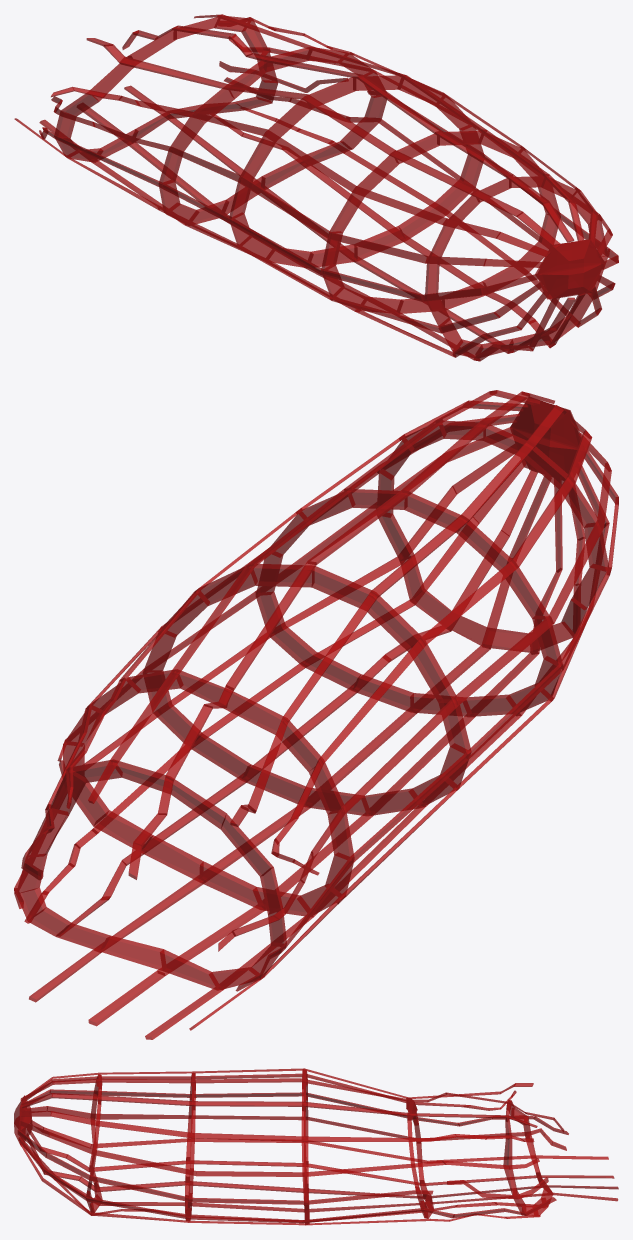
The model's file is SM_Veh_Blimp_Destroyed_01_Collision.fbx.
The picture shows the model from 3 angles, top to bottom: view 1: azimuth 30°, elevation 25°; view 2: azimuth 150°, elevation 25°; view 3: azimuth 270°, elevation 25°; orthographic projection. The views are drawn at different scales.
Parts seen in each view (by area): view 1: SM_Veh_Blimp_Destroyed_01_Collision; view 2: SM_Veh_Blimp_Destroyed_01_Collision; view 3: SM_Veh_Blimp_Destroyed_01_Collision.
Part boxes in pixels (x1=…): SM_Veh_Blimp_Destroyed_01_Collision: x1=14, y1=14, x2=618, y2=361; SM_Veh_Blimp_Destroyed_01_Collision: x1=14, y1=390, x2=618, y2=1039; SM_Veh_Blimp_Destroyed_01_Collision: x1=14, y1=1068, x2=618, y2=1225.
Bounding box in the file's own units: 1842 × 1215 × 4810.
